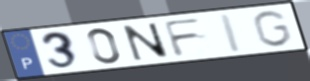0: (86, 27, 122, 65)
3: (40, 29, 84, 72)
F: (161, 16, 205, 58)
G: (251, 9, 295, 48)
I: (217, 12, 245, 55)
N: (120, 21, 173, 62)
